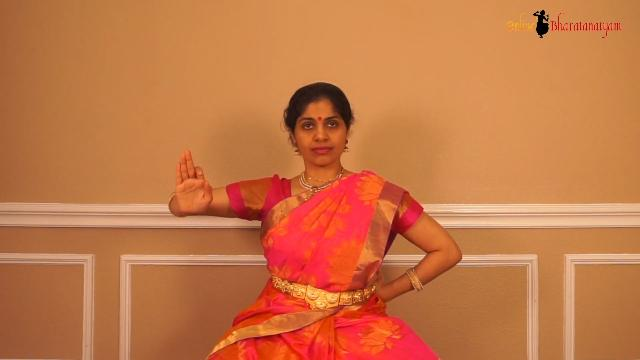aral: (156, 131, 224, 235)
